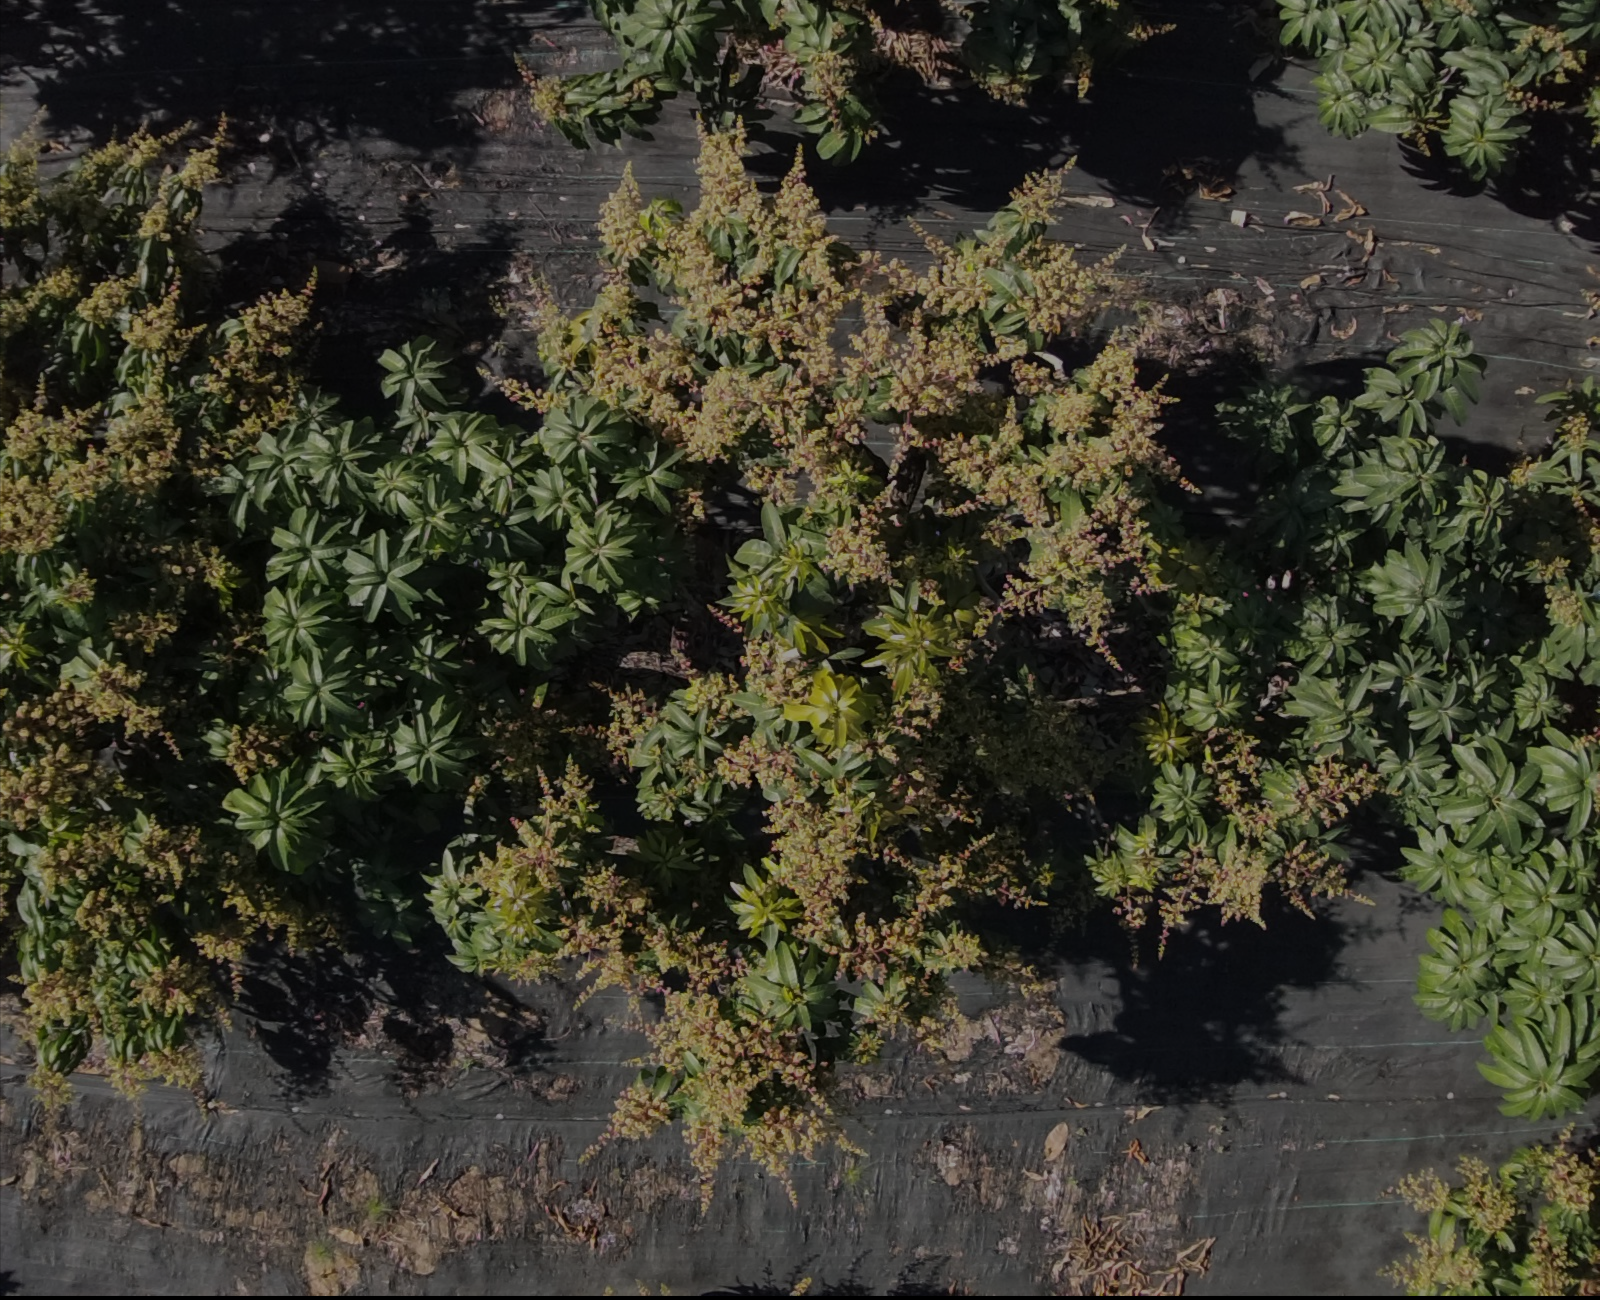flowers: (536, 127, 1165, 634), (433, 765, 856, 1183), (0, 562, 320, 1094), (0, 133, 310, 553), (718, 673, 1093, 984), (1091, 708, 1374, 930), (1384, 1132, 1599, 1295), (738, 37, 880, 159), (567, 687, 658, 759), (869, 11, 953, 85), (740, 633, 811, 703), (208, 722, 291, 780), (1531, 556, 1583, 626), (192, 541, 239, 606), (679, 671, 739, 719)
